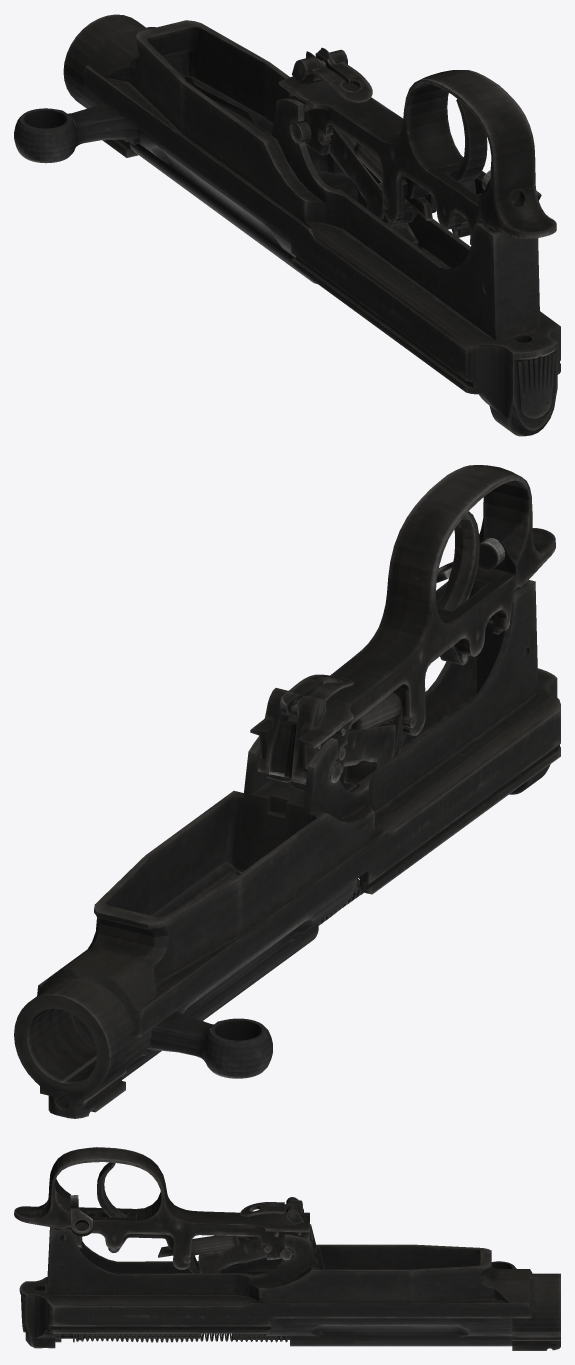
The picture shows the model from 3 angles, top to bottom: view 1: azimuth 30°, elevation 25°; view 2: azimuth 150°, elevation 25°; view 3: azimuth 270°, elevation 25°; orthographic projection. The views are drawn at different scales.
Parts seen in each view (by area): view 1: TW_643ea5b23db6f9f57107d9fd_PZ_Import; view 2: TW_643ea5b23db6f9f57107d9fd_PZ_Import; view 3: TW_643ea5b23db6f9f57107d9fd_PZ_Import.
Boxes of the visible parts, box(x1,y1,x2,y2) form: TW_643ea5b23db6f9f57107d9fd_PZ_Import: box(14, 14, 560, 436); TW_643ea5b23db6f9f57107d9fd_PZ_Import: box(14, 465, 560, 1118); TW_643ea5b23db6f9f57107d9fd_PZ_Import: box(14, 1147, 560, 1350).
Size of the model in its own units: 0.0387 by 0.1573 by 0.0618.
Materials: 1 (1 with a texture image).
